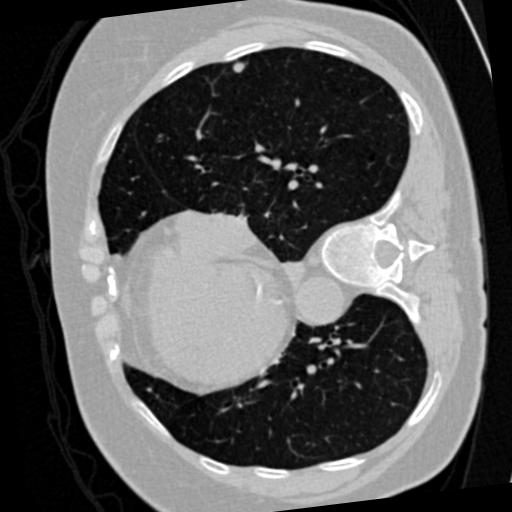nodule: (229, 57, 248, 76)
